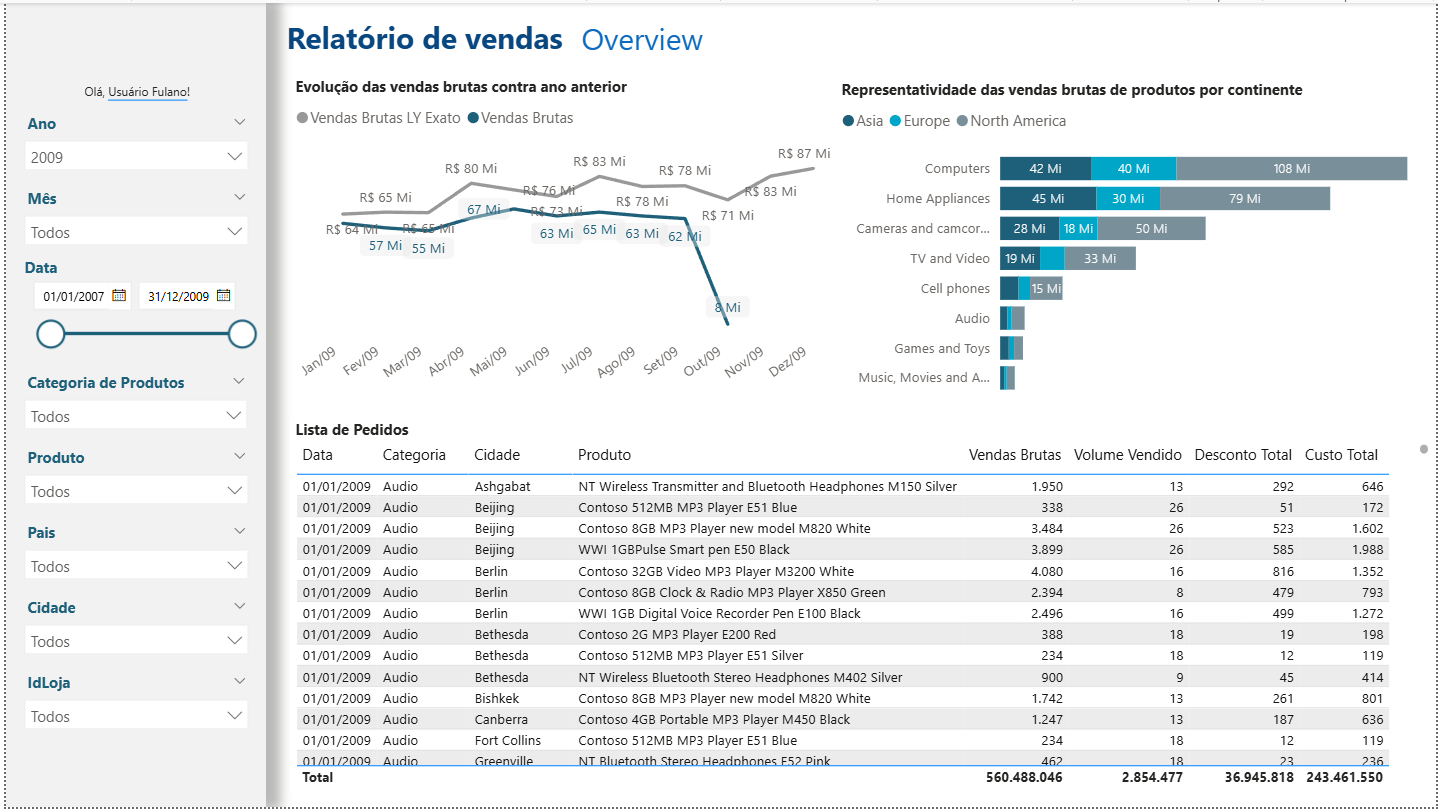

This screenshot's page, from the dashboard's own definition file:
{"tool":"powerbi","page":{"name":"Front-End 3","canvas":[1280,720],"ordinal":2},"visuals":[{"type":"shape","title":"Fundo","box":[0,0,232.8,720.1],"z":0,"group":"g1"},{"type":"textbox","title":"Relatorio","box":[246.3,7.2,285.9,57],"z":0,"group":"g2"},{"type":"lineChart","title":"Evolução das vendas brutas contra ano anterior","fields":{"Category":["dCalendario.AnoMês"],"Y":["Medidas 2.Vendas Brutas LY Exato","Medidas 1.Vendas Brutas"]},"box":[254.3,65.4,489,293.7],"z":0},{"type":"group","id":"g1","title":"Menu","box":[0,0,232.8,720.1],"z":1000},{"type":"textbox","title":"Overview","box":[510.2,7.9,125.4,57.3],"z":1000,"group":"g2"},{"type":"group","id":"g2","title":"Titulo","box":[246.3,7.2,389.3,58.1],"z":2000},{"type":"textbox","title":"Ola, User","box":[65.4,64.5,113.7,29.6],"z":2000,"group":"g1"},{"type":"barChart","title":"Representatividade das vendas brutas de produtos por continente","fields":{"Y":["Medidas 1.Vendas Brutas"],"Category":["dCategoriaProdutos.Categoria"],"Series":["dLocalidades.Continente"]},"box":[743.6,67.8,536.4,294.7],"z":3000},{"type":"slicer","title":"Ano","fields":{"Values":["dCalendario.Ano"]},"box":[6.3,94,221.2,67.2],"z":3000,"group":"g1"},{"type":"slicer","title":"Mes","fields":{"Values":["dCalendario.Mês"]},"box":[6.3,161.2,221.2,66.3],"z":4000,"group":"g1"},{"type":"tableEx","title":"Lista de Pedidos","fields":{"Values":["dCalendario.Data","dCategoriaProdutos.Categoria","dLocalidades.Cidade","dProdutos.Produto","Medidas 1.Vendas Brutas","Medidas 1.Volume Vendido","Medidas 1.Desconto Total","Medidas 1.Custo Total"]},"box":[254.3,372.5,1025.4,334],"z":4000},{"type":"slicer","title":"IdLoja","fields":{"Values":["dLojas.IdLoja"]},"box":[6.3,594.6,221.2,64.5],"z":5000,"group":"g1"},{"type":"slicer","title":"Cidade","fields":{"Values":["dLocalidades.Cidade"]},"box":[6.3,527.5,221.2,67.2],"z":6000,"group":"g1"},{"type":"slicer","title":"Pais","fields":{"Values":["dLocalidades.Pais"]},"box":[6.3,460.3,221.2,67.2],"z":7000,"group":"g1"},{"type":"slicer","title":"Produto","fields":{"Values":["dProdutos.Produto"]},"box":[6.3,393.1,221.2,67.2],"z":8000,"group":"g1"},{"type":"slicer","title":"Categoria","fields":{"Values":["dCategoriaProdutos.Categoria"]},"box":[6.3,326,220.3,67.2],"z":9000,"group":"g1"},{"type":"slicer","title":"Data","fields":{"Values":["dCalendario.Data"]},"box":[11.8,227.9,221,100.2],"z":10000,"group":"g1"}]}

Visuals, with their boxes in screenshot pixels (x1, y1, x2, y2), scaled from the page's 1280x720 canvas onto the 1438x810 screenshot:
"Fundo" shape: [left=0, top=0, right=262, bottom=809]
"Relatorio" textbox: [left=277, top=8, right=598, bottom=72]
"Evolução das vendas brutas contra ano anterior" lineChart: [left=286, top=74, right=835, bottom=404]
"Menu" group: [left=0, top=0, right=262, bottom=809]
"Overview" textbox: [left=573, top=9, right=714, bottom=73]
"Titulo" group: [left=277, top=8, right=714, bottom=73]
"Ola, User" textbox: [left=73, top=73, right=201, bottom=106]
"Representatividade das vendas brutas de produtos por continente" barChart: [left=835, top=76, right=1437, bottom=408]
"Ano" slicer: [left=7, top=106, right=256, bottom=181]
"Mes" slicer: [left=7, top=181, right=256, bottom=256]
"Lista de Pedidos" tableEx: [left=286, top=419, right=1437, bottom=795]
"IdLoja" slicer: [left=7, top=669, right=256, bottom=741]
"Cidade" slicer: [left=7, top=593, right=256, bottom=669]
"Pais" slicer: [left=7, top=518, right=256, bottom=593]
"Produto" slicer: [left=7, top=442, right=256, bottom=518]
"Categoria" slicer: [left=7, top=367, right=255, bottom=442]
"Data" slicer: [left=13, top=256, right=262, bottom=369]
